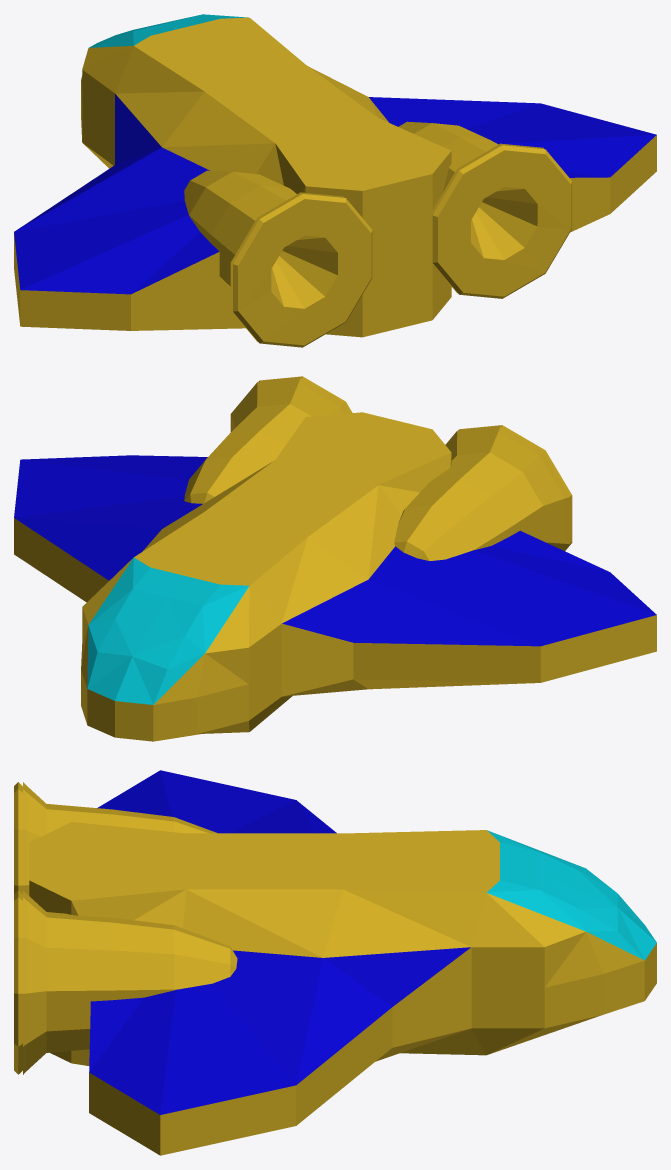
File: fighter.fbx
3 views of the same model, one above another, from view 1: azimuth 30°, elevation 25°; view 2: azimuth 150°, elevation 25°; view 3: azimuth 270°, elevation 25° (orthographic). The views are drawn at different scales.
Visible parts, largest first — view 1: 111; view 2: 111; view 3: 111.
Part boxes in pixels (left/top/right/bottom): 111: left=14, top=14, right=656, bottom=347; 111: left=14, top=376, right=656, bottom=741; 111: left=14, top=770, right=656, bottom=1155.
Size of the model in its own units: 910 by 223 by 717.
